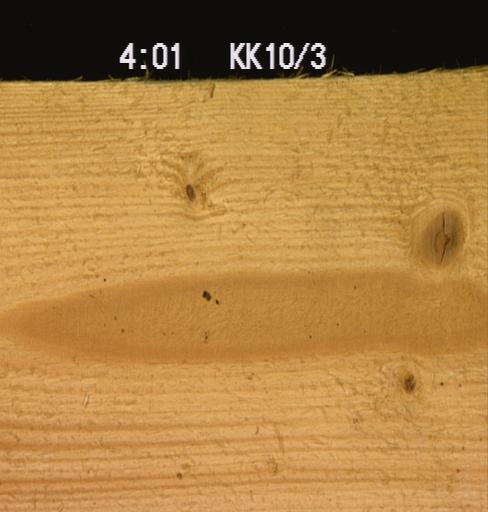small_knot: (397, 366, 421, 398), (180, 178, 200, 204)
sound_knot: (412, 206, 472, 267)
